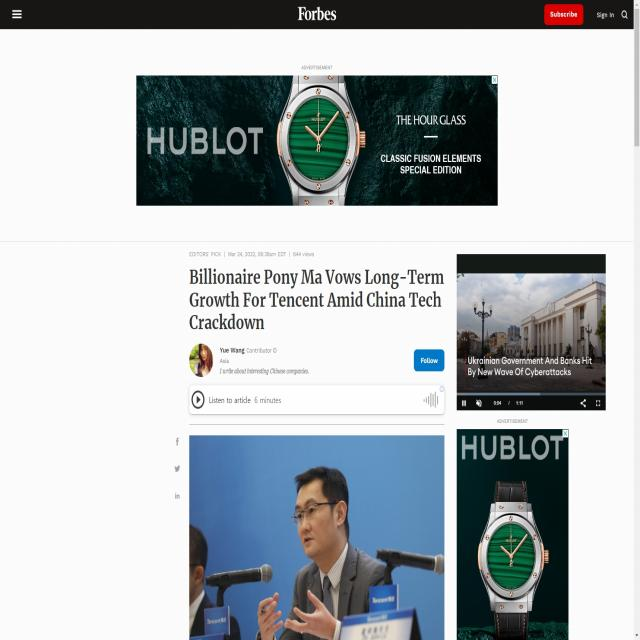menu-bar: (538, 1, 632, 28)
